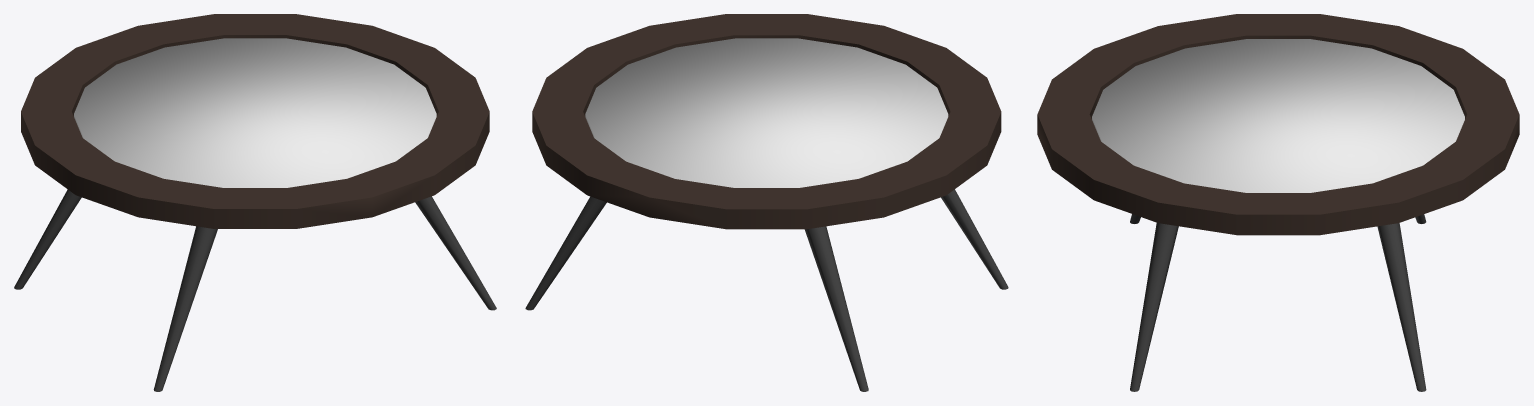
Rendered from ctable_3.glb.
The picture shows the model from 3 angles, left to right: view 1: azimuth 30°, elevation 25°; view 2: azimuth 150°, elevation 25°; view 3: azimuth 270°, elevation 25°; orthographic projection. The views are drawn at different scales.
Visible parts, largest first — view 1: CTable_3, CTable_3_Glass; view 2: CTable_3, CTable_3_Glass; view 3: CTable_3, CTable_3_Glass.
Part boxes in pixels (box(x1,y1,x2,y2)): CTable_3: box(14, 14, 496, 391); CTable_3_Glass: box(74, 38, 436, 187); CTable_3: box(525, 14, 1008, 391); CTable_3_Glass: box(585, 38, 948, 187); CTable_3: box(1037, 14, 1519, 391); CTable_3_Glass: box(1092, 39, 1464, 192).
Size of the model in its own units: 1.19 by 0.5286 by 1.2.
Materials: 2 (1 with a texture image).
